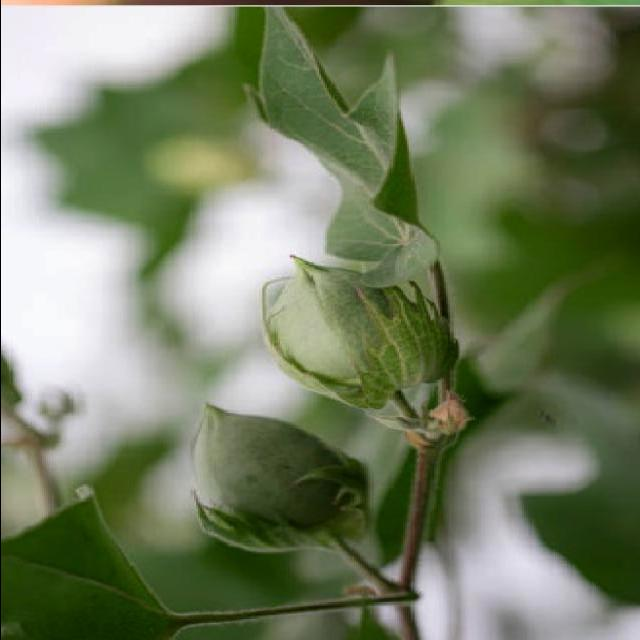Early Boll: (255, 253, 456, 415), (186, 414, 362, 560)
